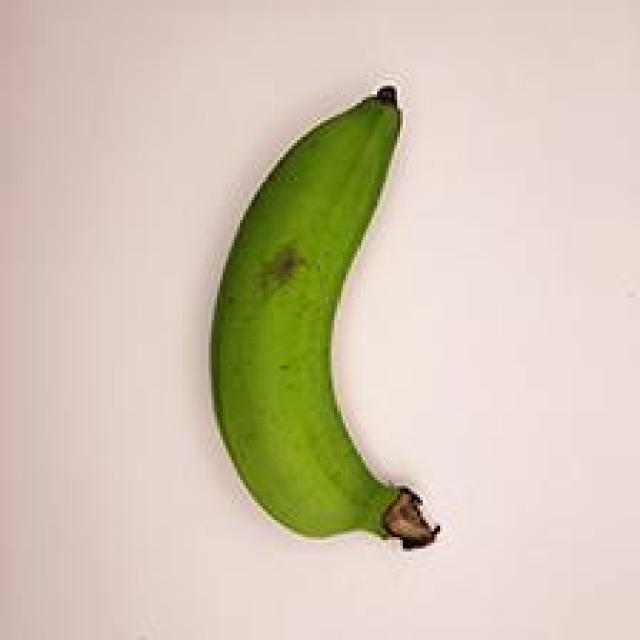Raw: (187, 62, 463, 576)
